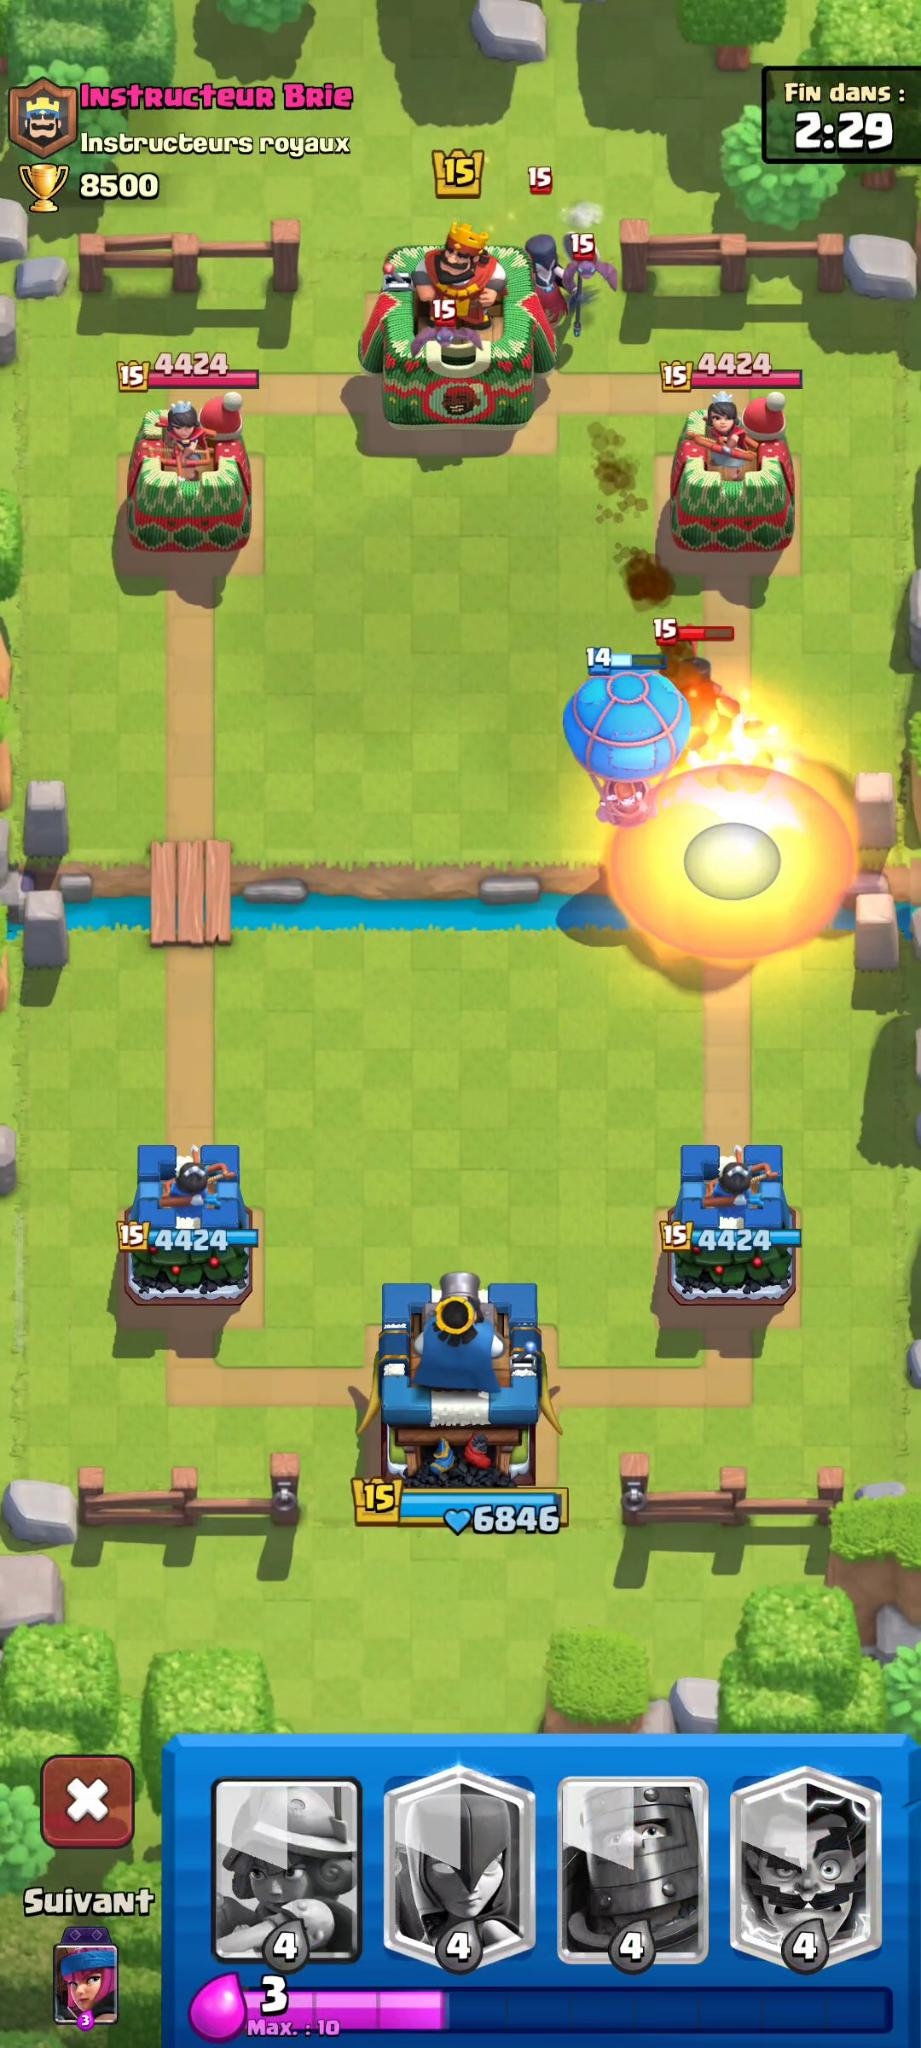bat: (414, 308, 487, 364), (558, 235, 618, 295)
